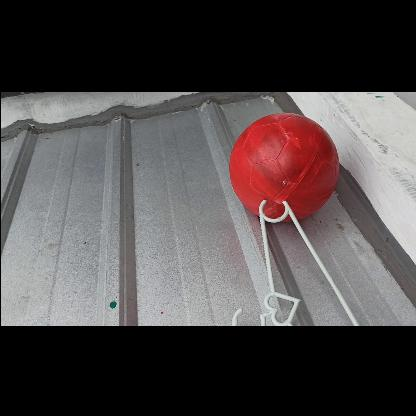red_ball: (228, 112, 336, 220)
